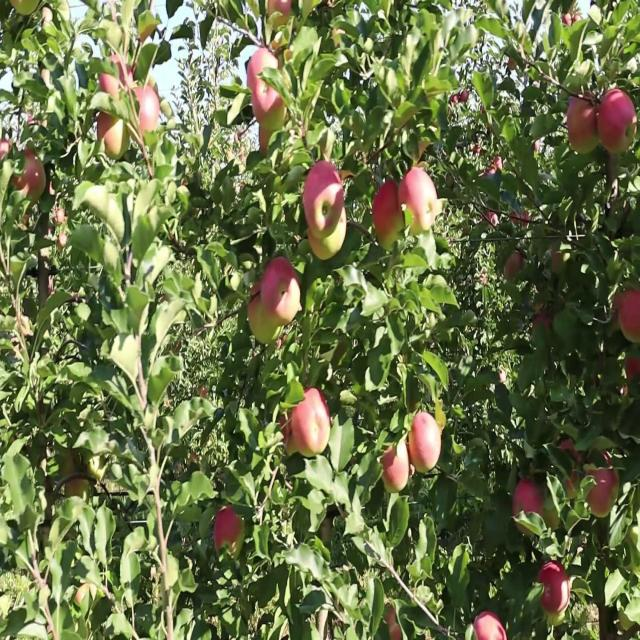apple: (260, 255, 303, 332), (248, 49, 289, 124), (289, 391, 332, 460), (304, 163, 345, 235), (400, 170, 439, 238), (600, 92, 640, 155), (584, 455, 620, 519), (408, 412, 444, 475), (536, 561, 572, 619), (96, 106, 131, 164), (248, 291, 281, 348), (568, 92, 597, 153), (512, 476, 547, 526), (100, 56, 135, 103), (372, 184, 403, 236), (132, 85, 161, 140), (384, 440, 412, 494), (212, 504, 244, 551), (308, 227, 347, 263), (616, 291, 640, 347), (24, 156, 48, 203), (280, 412, 302, 455), (260, 120, 283, 158), (476, 611, 507, 639), (52, 206, 70, 251), (268, 0, 293, 32), (384, 604, 404, 638), (532, 305, 553, 336), (504, 255, 526, 283), (560, 440, 583, 464), (564, 469, 581, 501), (625, 355, 640, 388), (260, 127, 275, 158), (552, 248, 568, 277), (12, 170, 28, 199), (68, 476, 88, 498), (560, 14, 580, 32), (0, 142, 13, 162)
